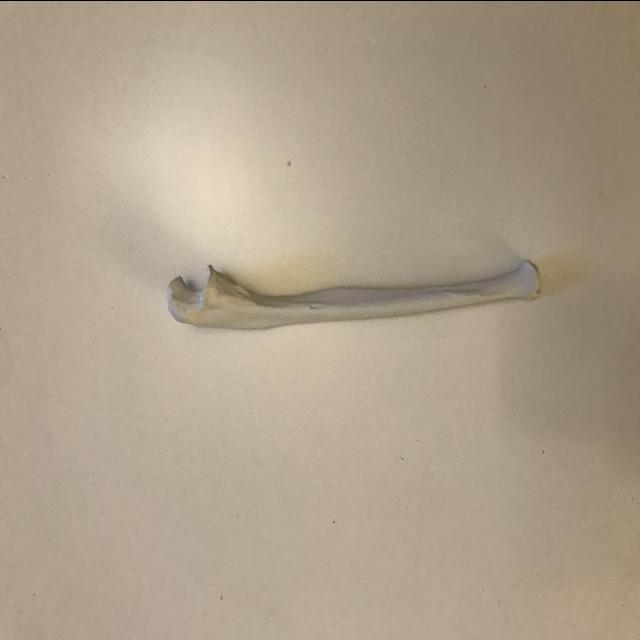bone: (163, 252, 548, 343)
